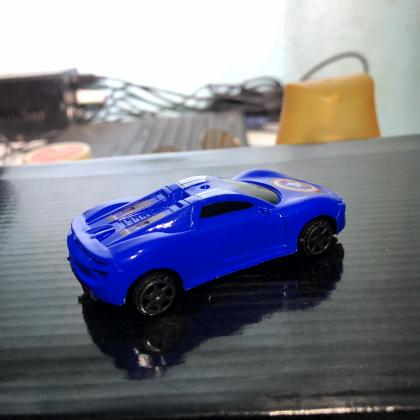Car: (60, 162, 353, 320)
